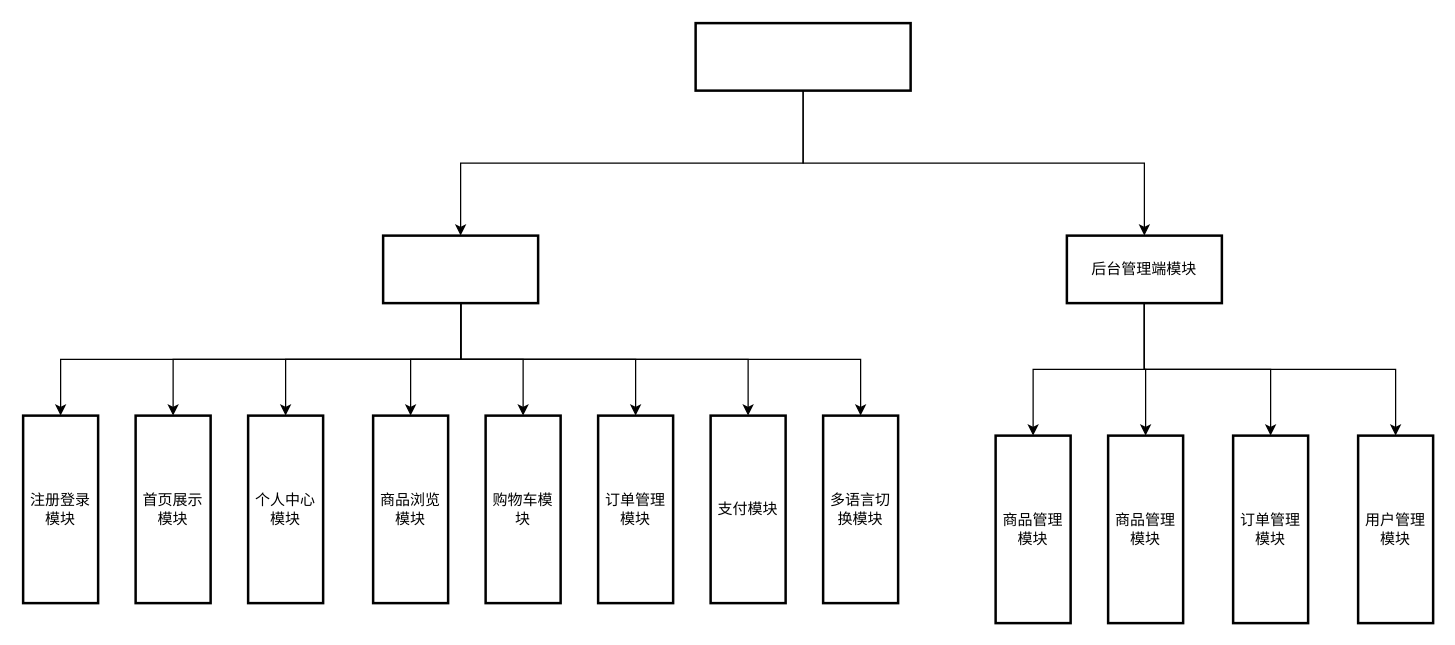
Image size: 1455x645. Some labels were removed from this diagram. Each missing label, with the centre of its shape:
"前台用户端模块" goes at [460,269].
"多语言商城系统" goes at [802,56].
